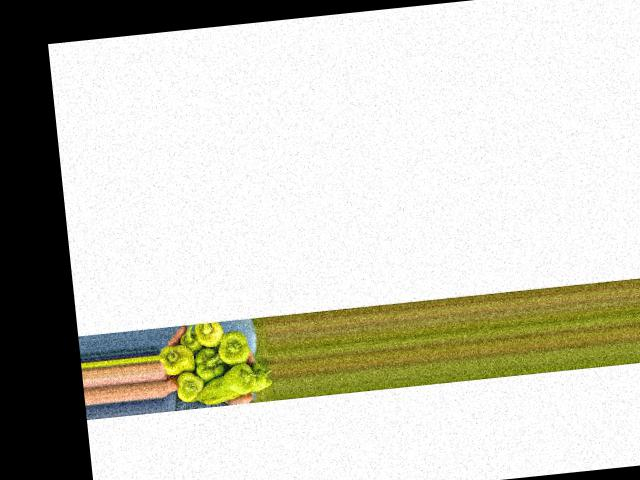bell_pepper: (159, 340, 197, 374)
